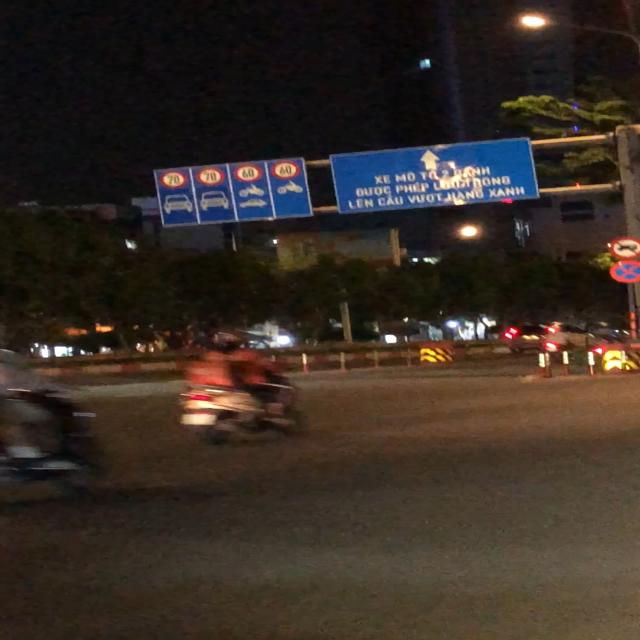Bien bao toc do toi da cho phep: (230, 162, 265, 184), (196, 166, 227, 186), (158, 169, 188, 189), (269, 161, 302, 179)
